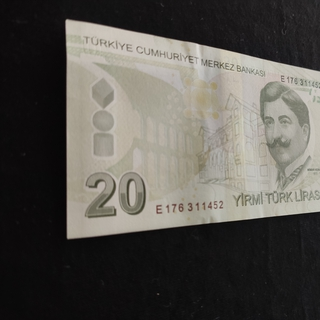20TLBack: (64, 18, 320, 240)
